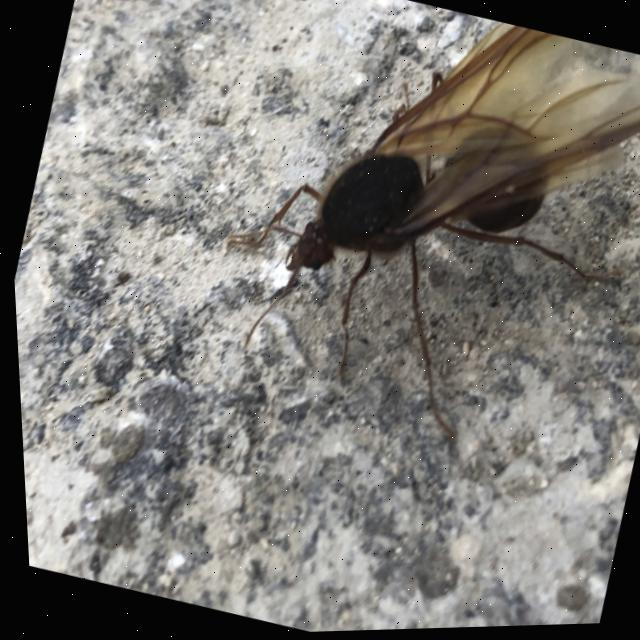Alive-Male-Alate: (175, 0, 640, 495)
